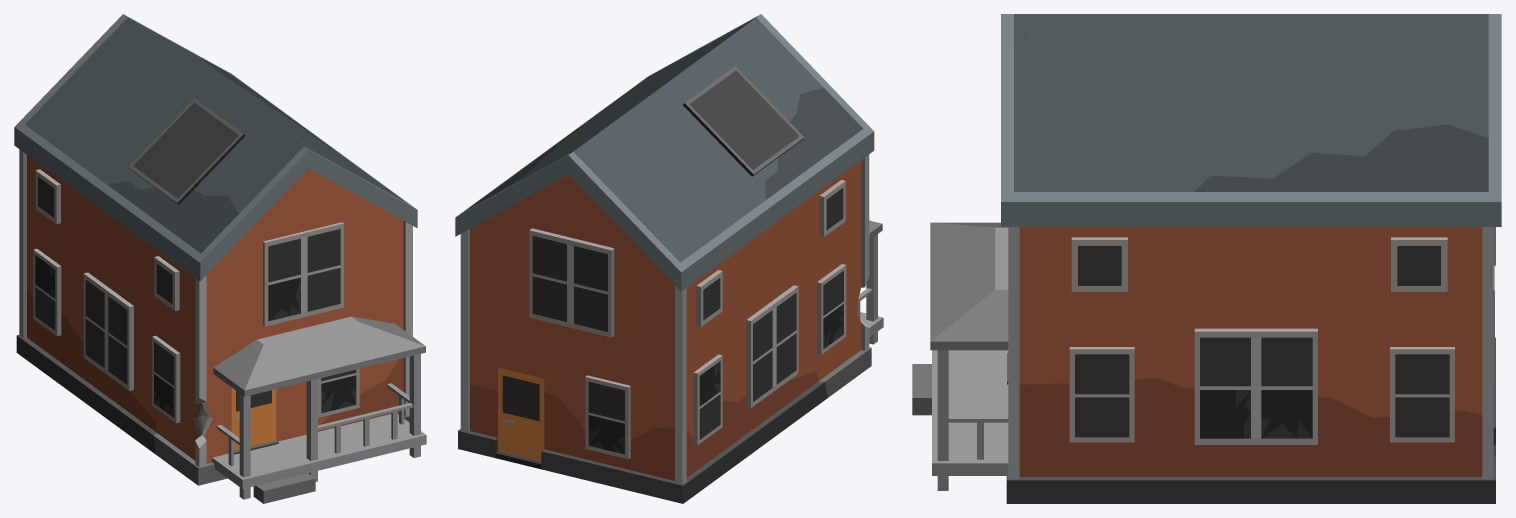
Rendered from SA_Bld_HouseTall_Damaged_01.gltf.
The picture shows the model from 3 angles, left to right: view 1: azimuth 30°, elevation 25°; view 2: azimuth 150°, elevation 25°; view 3: azimuth 270°, elevation 25°; orthographic projection. The views are drawn at different scales.
Visible parts, largest first — view 1: SA_Bld_HouseTall_Damaged_01; view 2: SA_Bld_HouseTall_Damaged_01; view 3: SA_Bld_HouseTall_Damaged_01.
Boxes of the visible parts, x1,y1,x2,y2 form: SA_Bld_HouseTall_Damaged_01: (14, 14, 426, 503); SA_Bld_HouseTall_Damaged_01: (455, 14, 883, 503); SA_Bld_HouseTall_Damaged_01: (912, 14, 1501, 503).
Size of the model in its own units: 10.63 by 14.52 by 18.52.
Materials: 1 (1 with a texture image).
